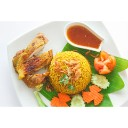briyani: (12, 37, 91, 94)
